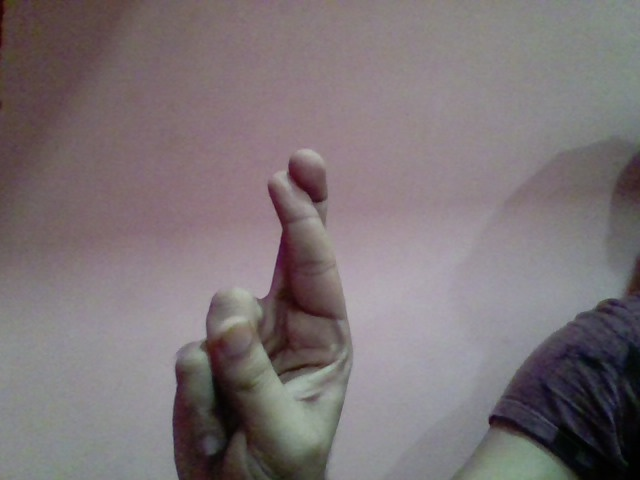r: (167, 141, 359, 480)
